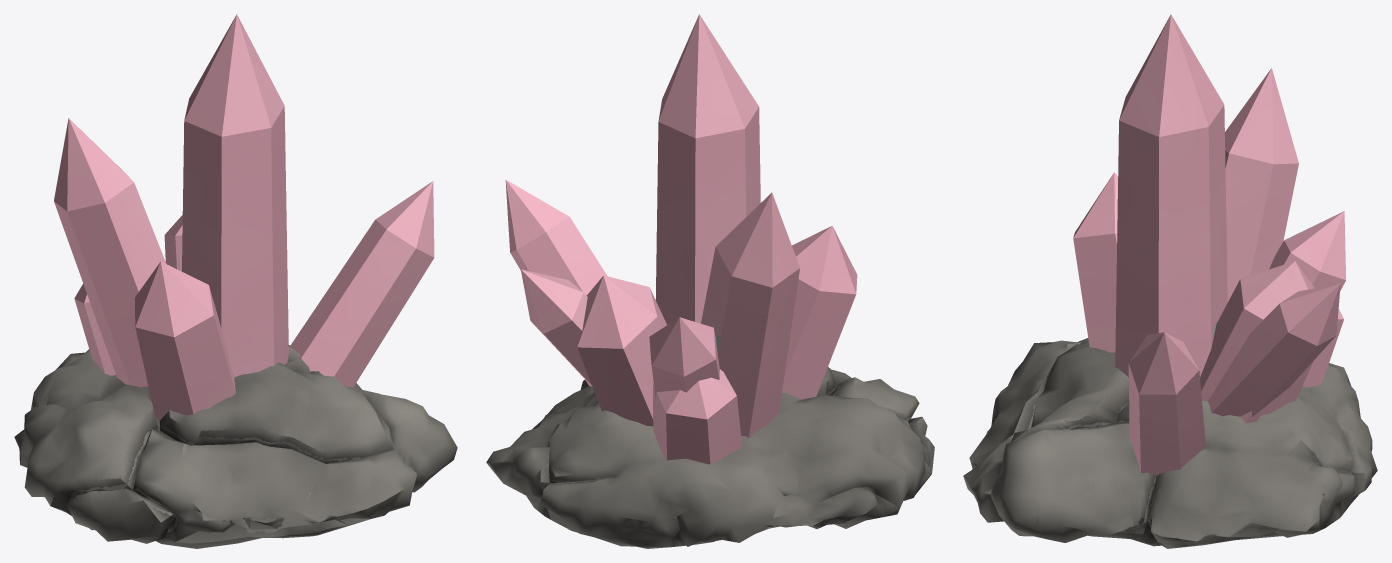
The model's file is cuarzo_rosa.fbx.
The picture shows the model from 3 angles, left to right: view 1: azimuth 30°, elevation 25°; view 2: azimuth 150°, elevation 25°; view 3: azimuth 270°, elevation 25°; orthographic projection. The views are drawn at different scales.
Parts seen in each view (by area): view 1: cuarzo_rosa_cristal, cuarzo_rosa; view 2: cuarzo_rosa_cristal, cuarzo_rosa; view 3: cuarzo_rosa_cristal, cuarzo_rosa.
Boxes of the visible parts, x1=… form: cuarzo_rosa_cristal: x1=54, y1=14, x2=434, y2=420; cuarzo_rosa: x1=14, y1=345, x2=457, y2=548; cuarzo_rosa_cristal: x1=505, y1=14, x2=857, y2=464; cuarzo_rosa: x1=486, y1=367, x2=934, y2=548; cuarzo_rosa_cristal: x1=1073, y1=14, x2=1345, y2=475; cuarzo_rosa: x1=963, y1=338, x2=1377, y2=548.
Size of the model in its own units: 2.48 by 2.76 by 2.15.
2 materials, 2 textured.
